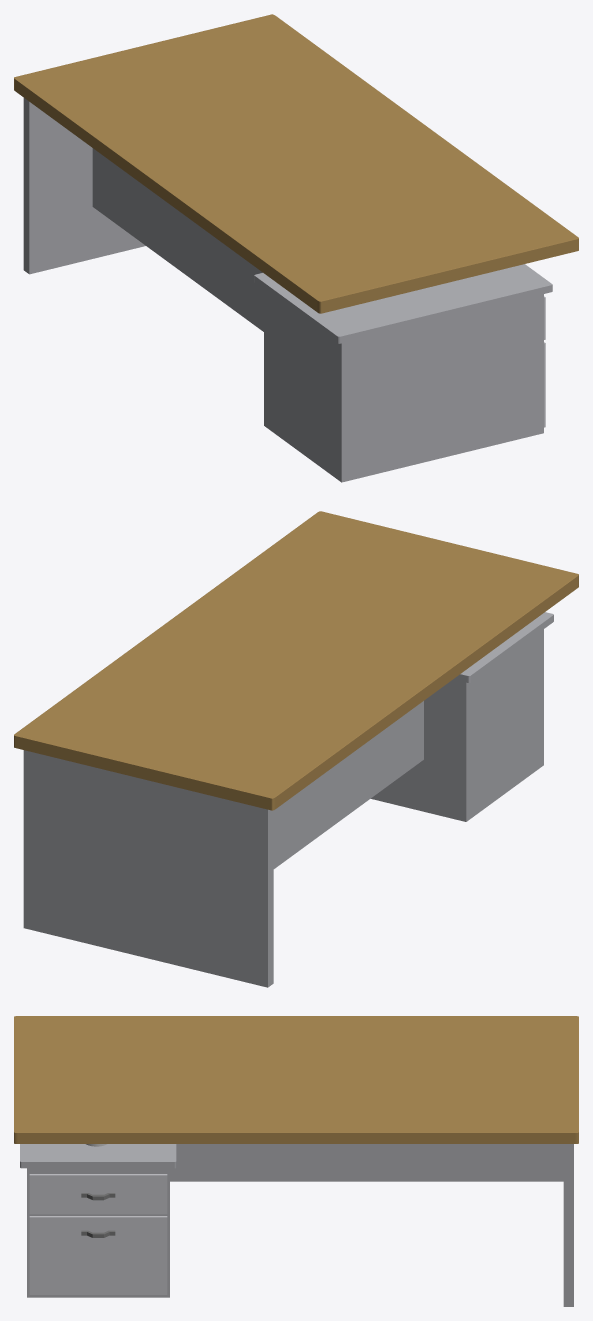
Rendered from Table1.glb.
3 renders of one model, top to bottom at view 1: azimuth 30°, elevation 25°; view 2: azimuth 150°, elevation 25°; view 3: azimuth 270°, elevation 25°, orthographic. The views are drawn at different scales.
Parts seen in each view (by area): view 1: Cube.022, Cube.024, Cube.023, Cube.025, Cube.026; view 2: Cube.022, Cube.023, Cube.024, Cube.025, Cube.026; view 3: Cube.022, Cube.025, Cube.028, Cube.027, Cube.026, Cube.024, Cube.023.
Part boxes in pixels (x1=…): Cube.022: x1=14, y1=14, x2=578, y2=313; Cube.024: x1=264, y1=290, x2=543, y2=482; Cube.023: x1=23, y1=98, x2=145, y2=274; Cube.025: x1=92, y1=148, x2=263, y2=331; Cube.026: x1=254, y1=264, x2=552, y2=343; Cube.022: x1=14, y1=511, x2=578, y2=810; Cube.023: x1=23, y1=750, x2=273, y2=987; Cube.024: x1=370, y1=629, x2=543, y2=821; Cube.025: x1=273, y1=701, x2=423, y2=868; Cube.026: x1=453, y1=612, x2=553, y2=682; Cube.022: x1=14, y1=1016, x2=578, y2=1143; Cube.025: x1=170, y1=1144, x2=563, y2=1181; Cube.028: x1=29, y1=1216, x2=167, y2=1294; Cube.027: x1=29, y1=1174, x2=167, y2=1214; Cube.026: x1=20, y1=1144, x2=176, y2=1168; Cube.024: x1=27, y1=1168, x2=169, y2=1297; Cube.023: x1=563, y1=1144, x2=573, y2=1306.
Bounding box in the file's own units: 1.63 × 1.15 × 3.33.
